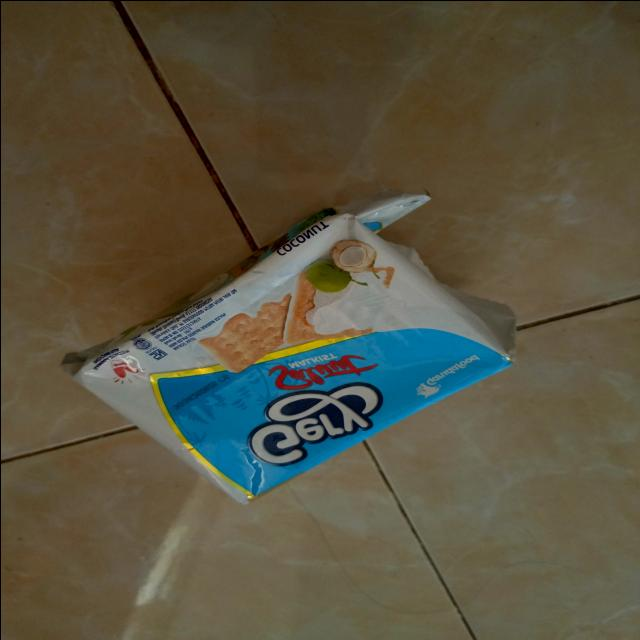gery-salut-coconut: (62, 189, 517, 505)
